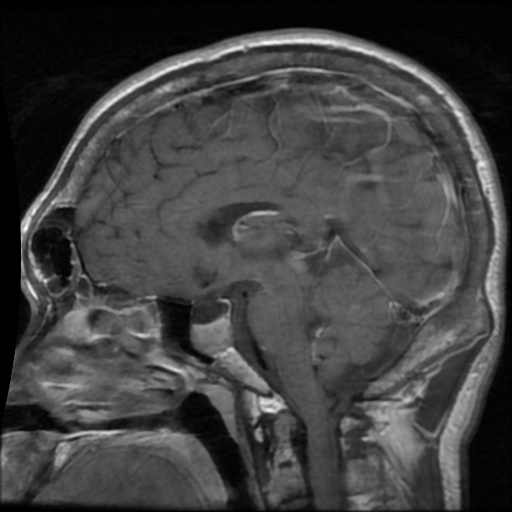pituitary: (194, 319, 230, 352)
